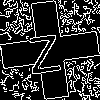Z: (25, 25, 62, 74)
